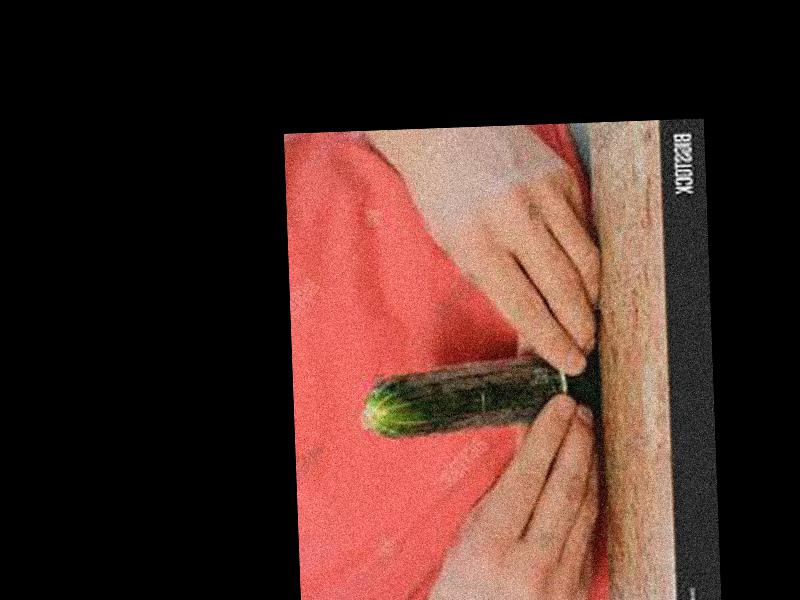Cucumber: (361, 353, 599, 440)
